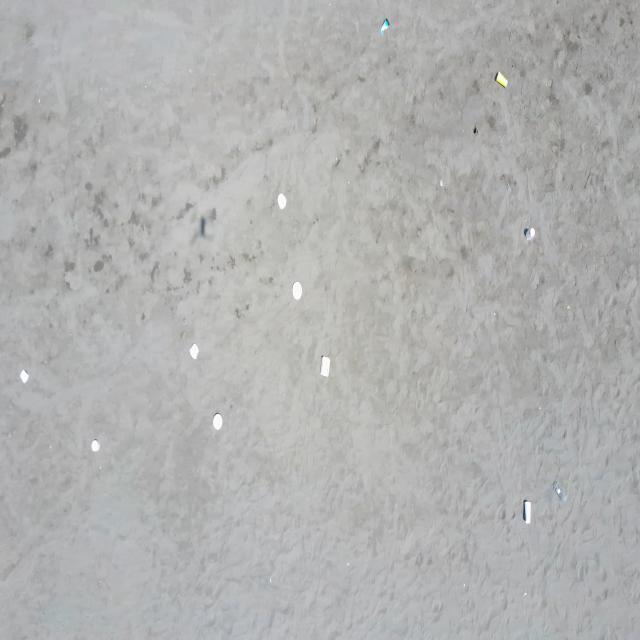take-away-containers: (320, 356, 330, 378), (292, 282, 302, 300), (277, 192, 287, 210), (189, 343, 199, 359), (213, 413, 222, 430), (20, 369, 30, 383), (91, 438, 100, 453)
takeaway-cup: (496, 70, 509, 89), (524, 499, 532, 525), (555, 482, 564, 501), (525, 228, 536, 240), (381, 18, 389, 34)
